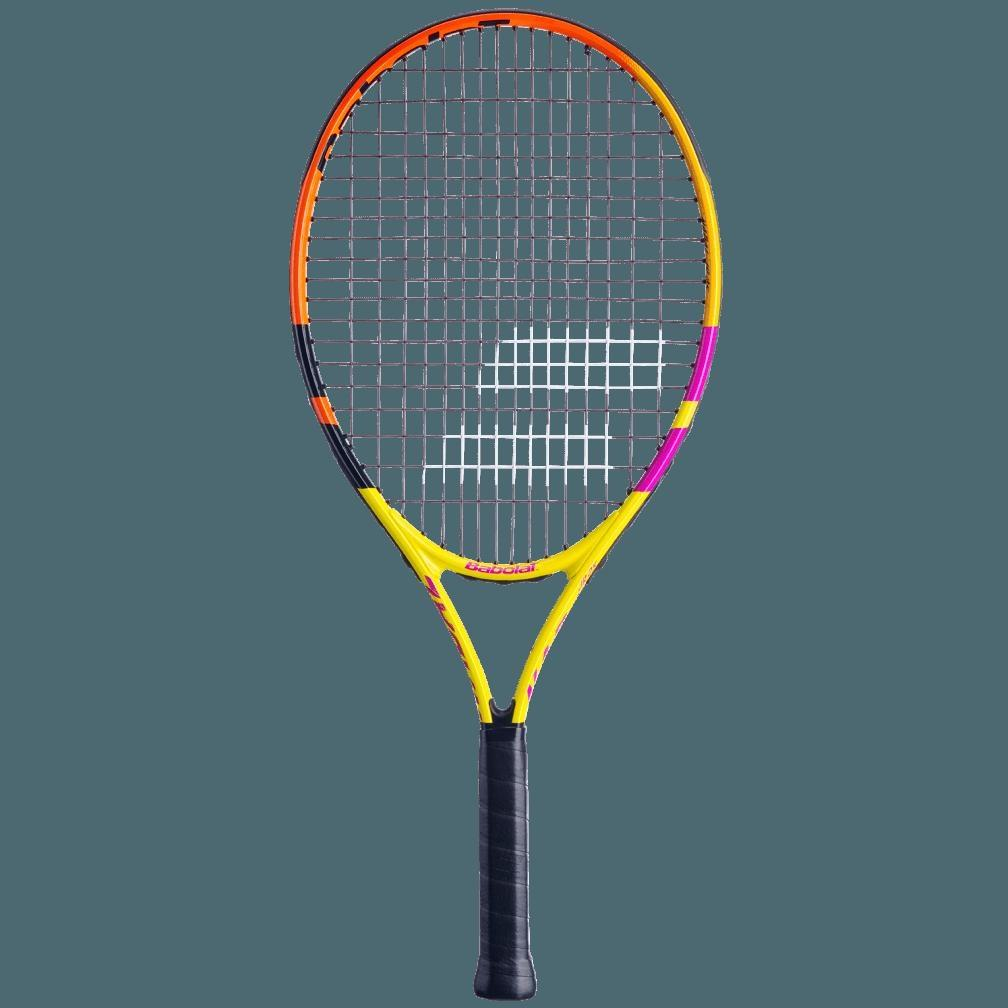Tennis-Racket: (290, 10, 720, 1000)
